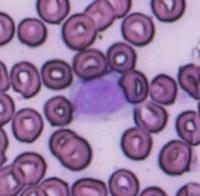L: (70, 77, 128, 121)
